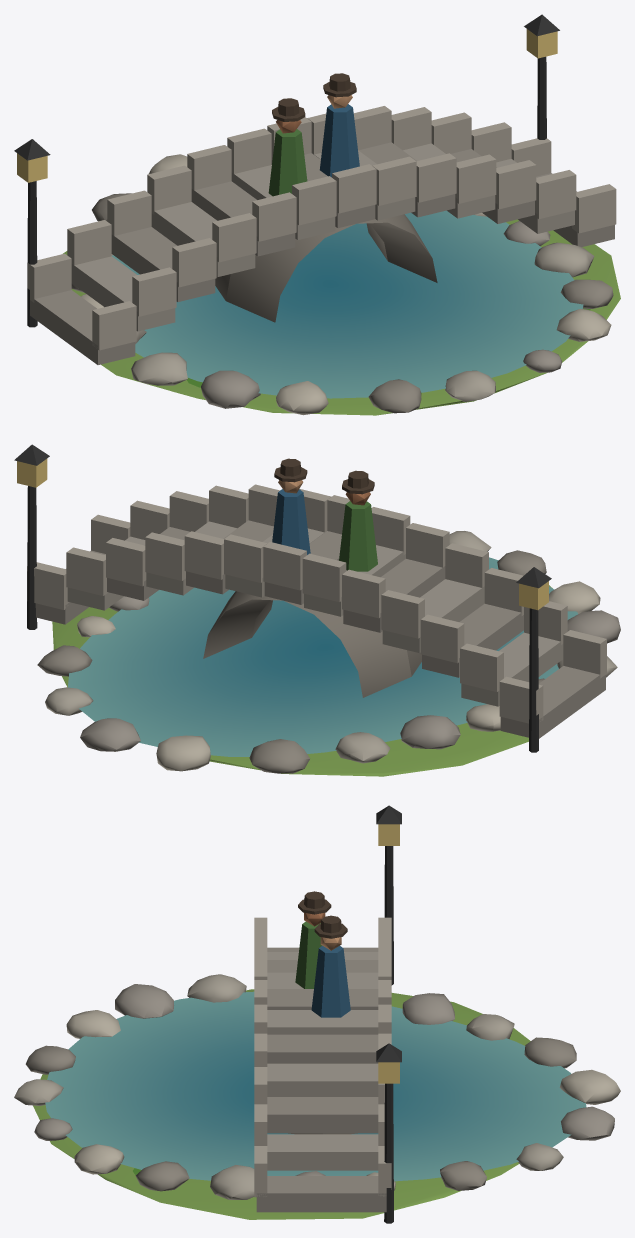
The model's file is millpond_bridge.glb.
3 renders of one model, top to bottom at view 1: azimuth 30°, elevation 25°; view 2: azimuth 150°, elevation 25°; view 3: azimuth 270°, elevation 25°, orthographic. The views are drawn at different scales.
Visible parts, largest first — view 1: town-millpond_bridge; view 2: town-millpond_bridge; view 3: town-millpond_bridge.
Boxes of the visible parts, x1,y1,x2,y2 form: town-millpond_bridge: [14, 14, 620, 415]; town-millpond_bridge: [14, 444, 620, 776]; town-millpond_bridge: [14, 805, 620, 1223].
Size of the model in its own units: 7.11 by 3.03 by 7.33.
